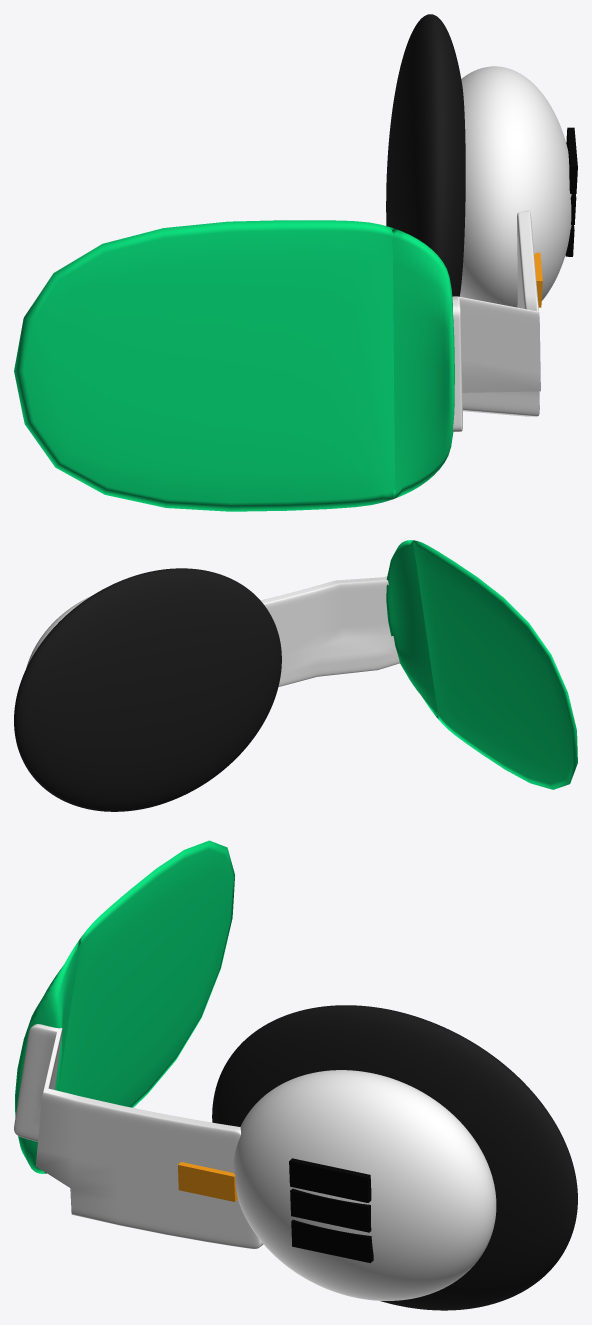
The model's file is scouterModel.glb.
The picture shows the model from 3 angles, top to bottom: view 1: azimuth 30°, elevation 25°; view 2: azimuth 150°, elevation 25°; view 3: azimuth 270°, elevation 25°; orthographic projection. The views are drawn at different scales.
Visible parts, largest first — view 1: ScouterLens_Rectangular, ScouterMainBody.001, ScouterMainBody, ConnectorArm.001; view 2: ScouterMainBody, ScouterLens_Rectangular, ConnectorArm.001; view 3: ScouterMainBody.001, ScouterMainBody, ScouterLens_Rectangular, ConnectorArm.001, 立方体, 立方体.001, 立方体.002, 立方体.003.
Part boxes in pixels (box(x1,y1,x2,y2)): ScouterLens_Rectangular: box(14, 220, 454, 511); ScouterMainBody.001: box(460, 66, 571, 307); ScouterMainBody: box(386, 14, 465, 296); ConnectorArm.001: box(452, 210, 540, 431); ScouterMainBody: box(14, 568, 281, 811); ScouterLens_Rectangular: box(386, 540, 577, 789); ConnectorArm.001: box(260, 576, 399, 686); ScouterMainBody.001: box(233, 1070, 496, 1300); ScouterMainBody: box(212, 1005, 577, 1310); ScouterLens_Rectangular: box(15, 840, 234, 1173); ConnectorArm.001: box(14, 1024, 263, 1248); 立方体: box(289, 1158, 371, 1202); 立方体.001: box(290, 1188, 371, 1232); 立方体.002: box(291, 1219, 373, 1263); 立方体.003: box(178, 1162, 237, 1201).
Size of the model in its own units: 1.13 by 0.5271 by 0.8993.
